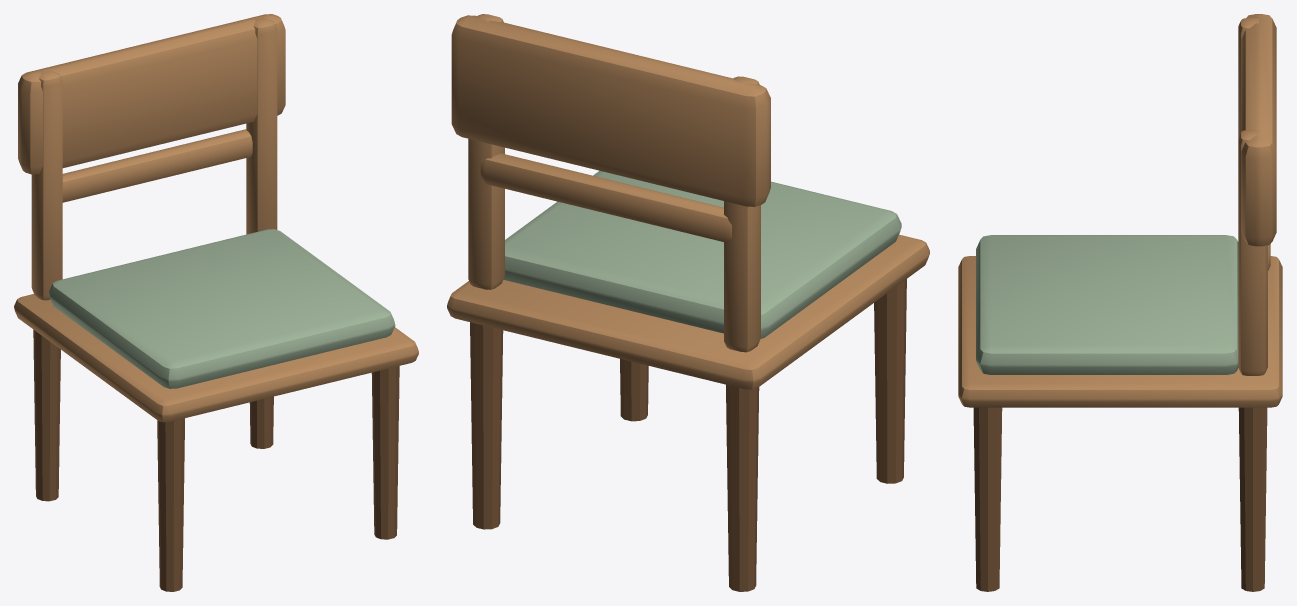
Rendered from chair_guest.glb.
The picture shows the model from 3 angles, left to right: view 1: azimuth 30°, elevation 25°; view 2: azimuth 150°, elevation 25°; view 3: azimuth 270°, elevation 25°; orthographic projection. The views are drawn at different scales.
Parts seen in each view (by area): view 1: FURN-chair_guest; view 2: FURN-chair_guest; view 3: FURN-chair_guest.
Part boxes in pixels (x1,y1,x2,y2): FURN-chair_guest: [14, 14, 418, 591]; FURN-chair_guest: [447, 14, 929, 591]; FURN-chair_guest: [958, 14, 1282, 591].
Bounding box in the file's own units: 0.55 × 0.85 × 0.55.
